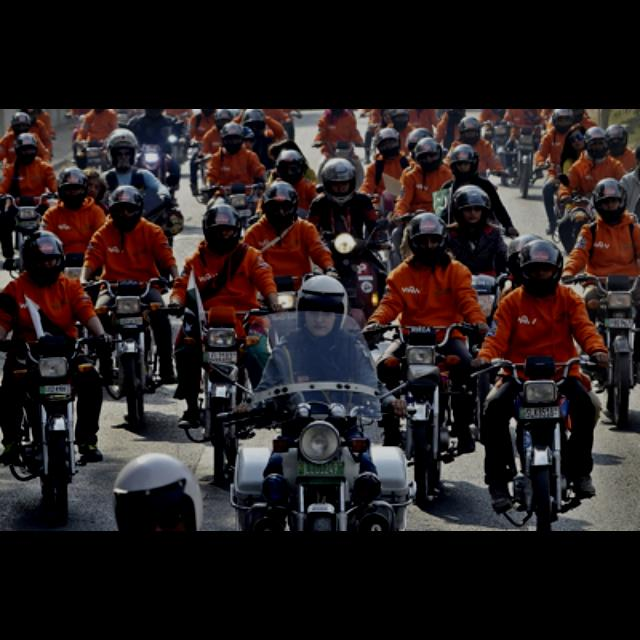With Helmet: (292, 272, 352, 342), (397, 203, 451, 267), (14, 226, 70, 284), (514, 236, 566, 298), (196, 200, 247, 253), (314, 154, 364, 208), (586, 172, 632, 226), (102, 184, 150, 230), (446, 141, 484, 183)
